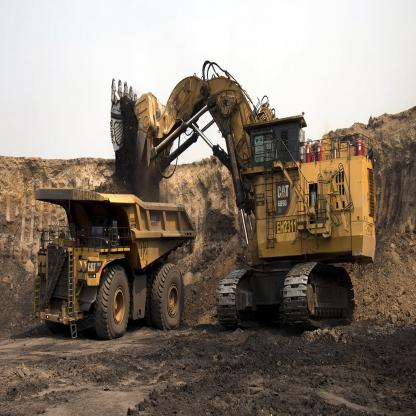dump_truck: (27, 171, 196, 339)
excavator: (107, 65, 413, 358)
